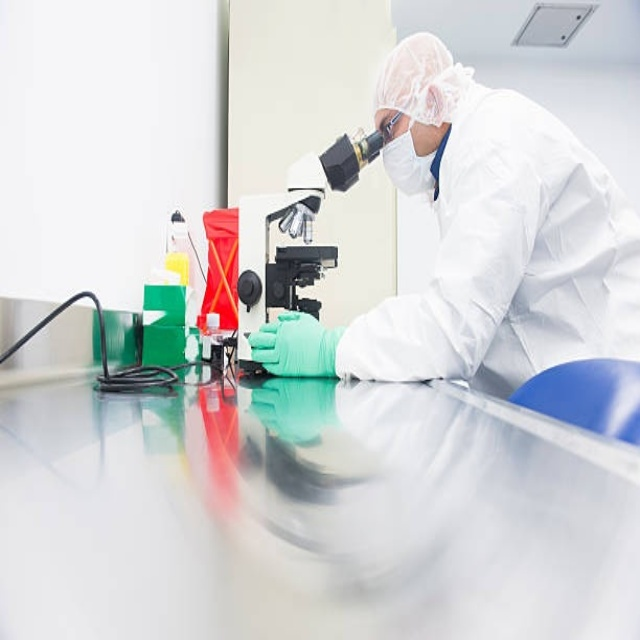Gafas: (380, 110, 405, 142)
Guantes: (249, 307, 341, 376), (249, 376, 339, 444)
Mascara: (381, 113, 437, 197)
